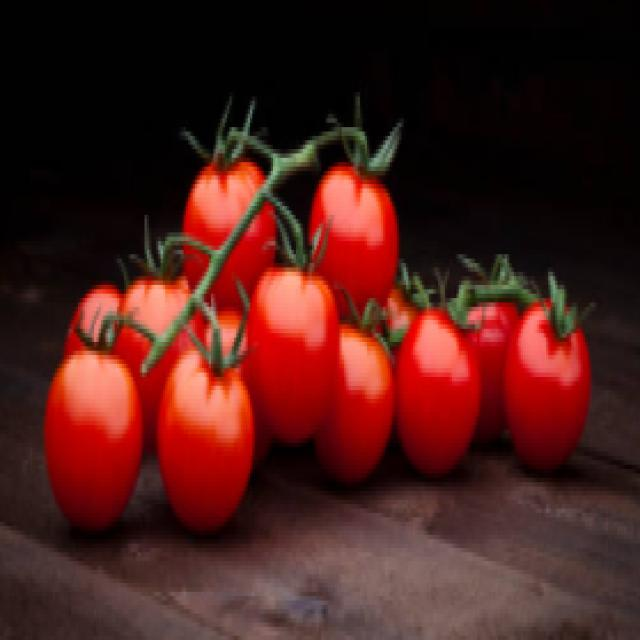Tomato: (148, 335, 262, 539), (165, 138, 290, 320), (252, 236, 340, 449), (312, 127, 402, 321)
